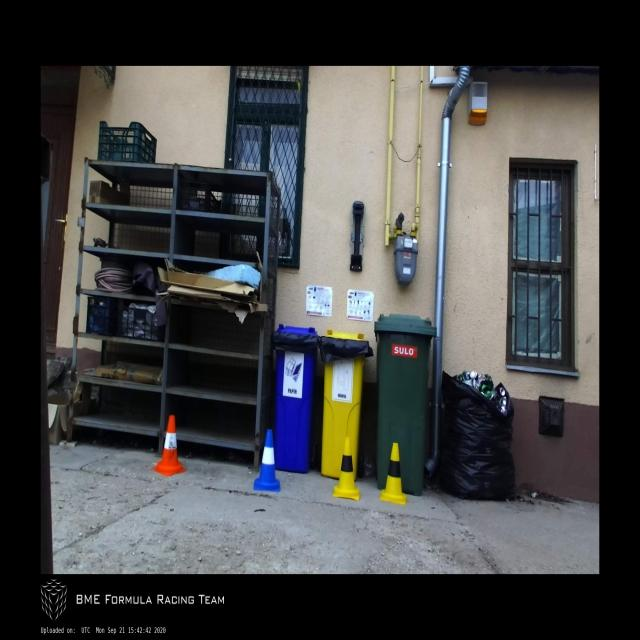blue_cone: (253, 429, 280, 492)
orange_cone: (153, 416, 186, 476)
yellow_cone: (333, 438, 360, 500), (381, 444, 406, 504)
